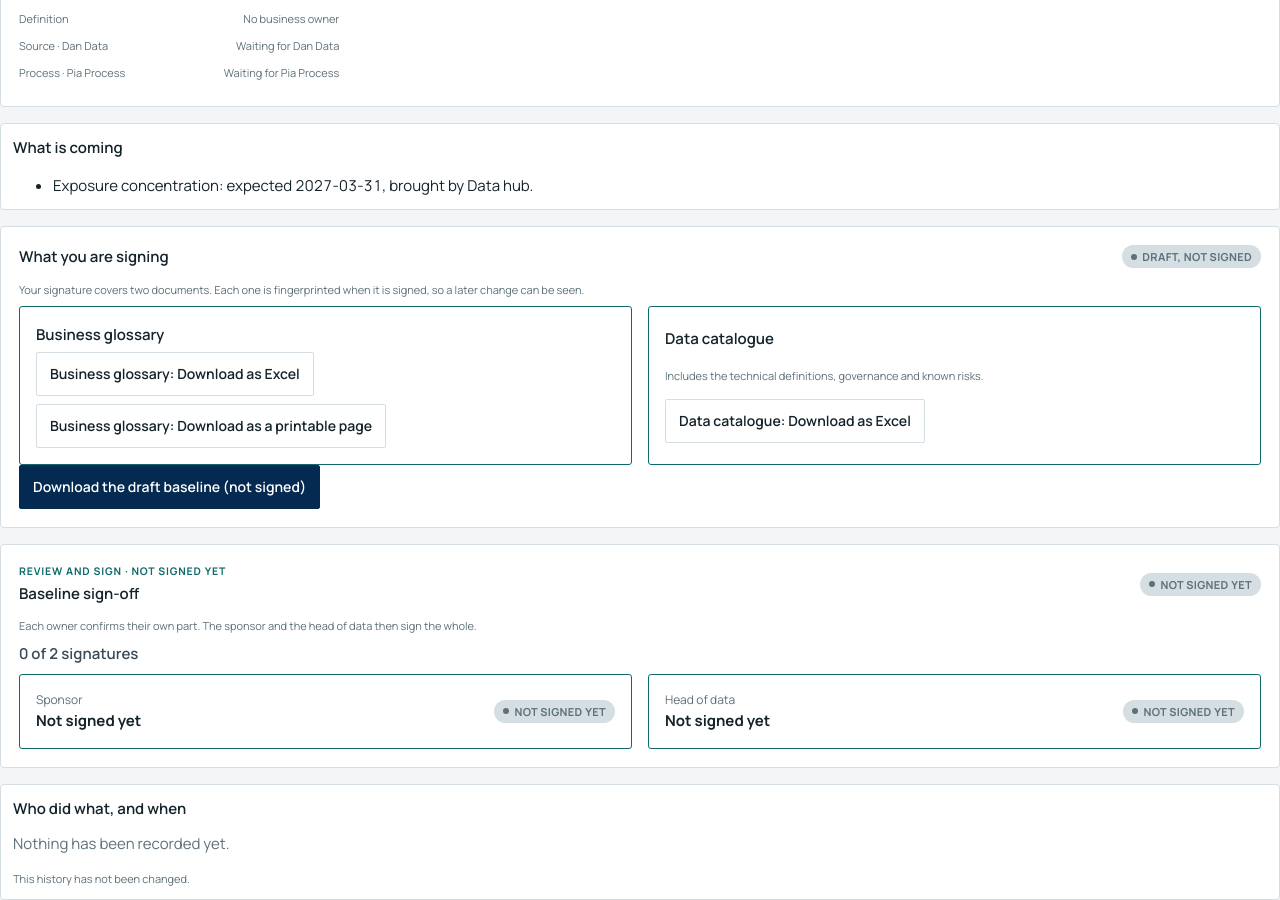
it: M2-E4 the two documents and the downloads › a refused download shows the server's plain sentence
(page scrolled)
Click the button "Download the draft baseline (not signed)": (170, 487) [19,465,320,509]
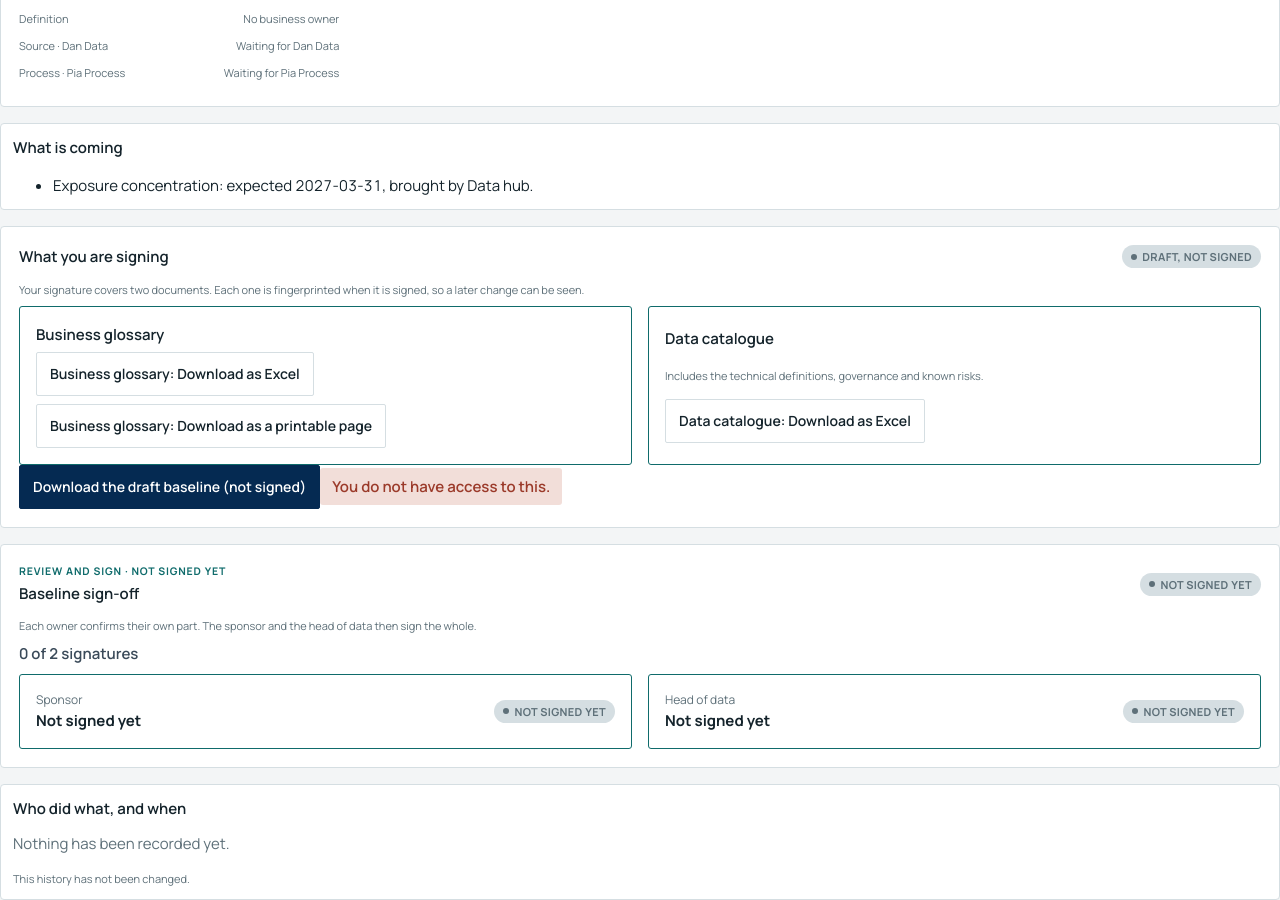
Expected: the text "You do not have access to this." is shown, [320,468,562,505]
